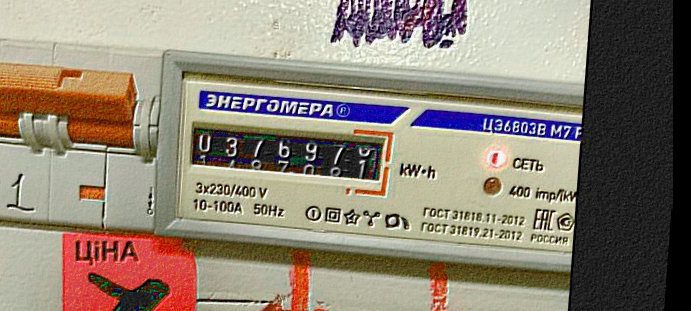0: (197, 131, 213, 154)
1: (356, 158, 367, 180)
3: (225, 136, 239, 158)
6: (277, 136, 293, 160)
7: (330, 141, 346, 165), (251, 135, 266, 159)
9: (303, 140, 319, 163)
screen: (178, 113, 397, 200)
